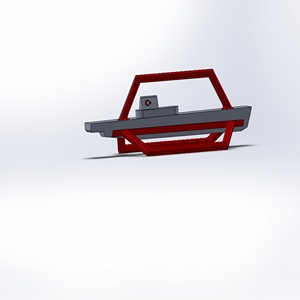submarine: (78, 58, 263, 178)
